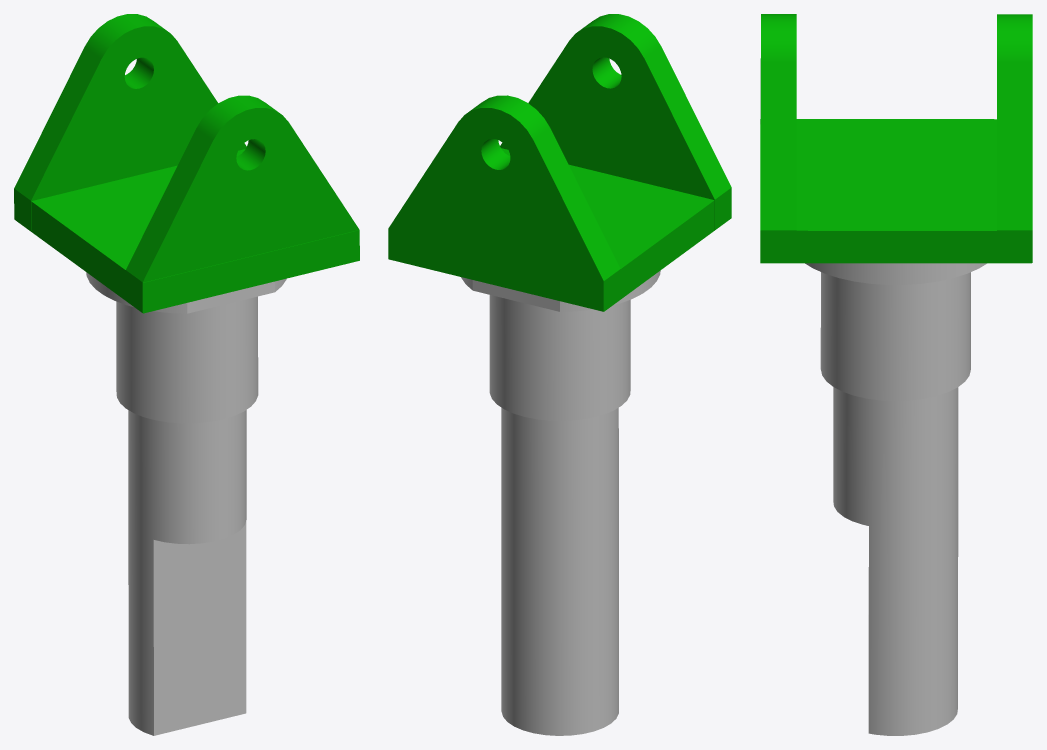
File: shaftassembly.glb
3 renders of one model, left to right at view 1: azimuth 30°, elevation 25°; view 2: azimuth 150°, elevation 25°; view 3: azimuth 270°, elevation 25°, orthographic. The views are drawn at different scales.
Visible parts, largest first — view 1: solidworks model; view 2: solidworks model; view 3: solidworks model.
Part boxes in pixels (left/top/right/bottom): solidworks model: left=14, top=14, right=359, bottom=735; solidworks model: left=388, top=14, right=731, bottom=735; solidworks model: left=760, top=14, right=1032, bottom=735.
Bounding box in the file's own units: 0.0741 × 0.2131 × 0.0763.
